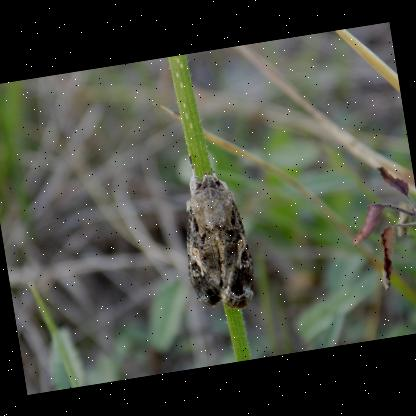Fall Armyworm Moth: (166, 143, 262, 319)
